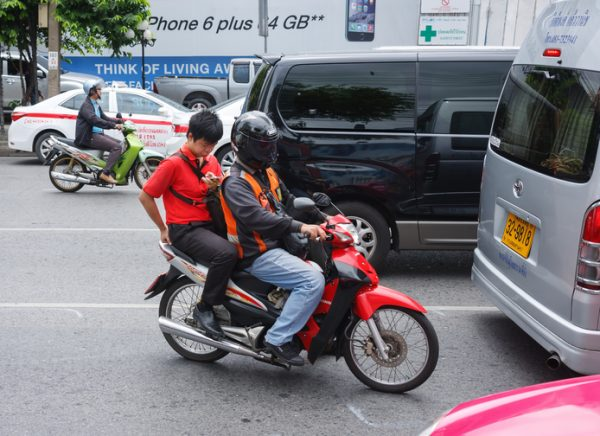helmet: (231, 112, 278, 167), (80, 74, 109, 96)
motorcycle: (144, 196, 448, 400), (48, 114, 166, 193)
